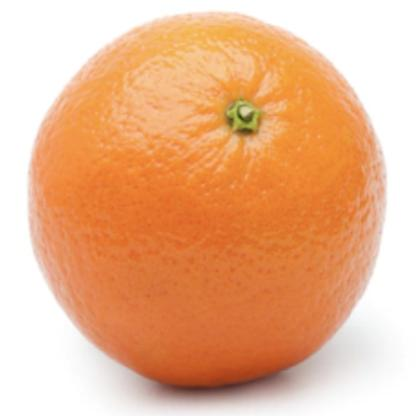fresh: (31, 13, 386, 394)
